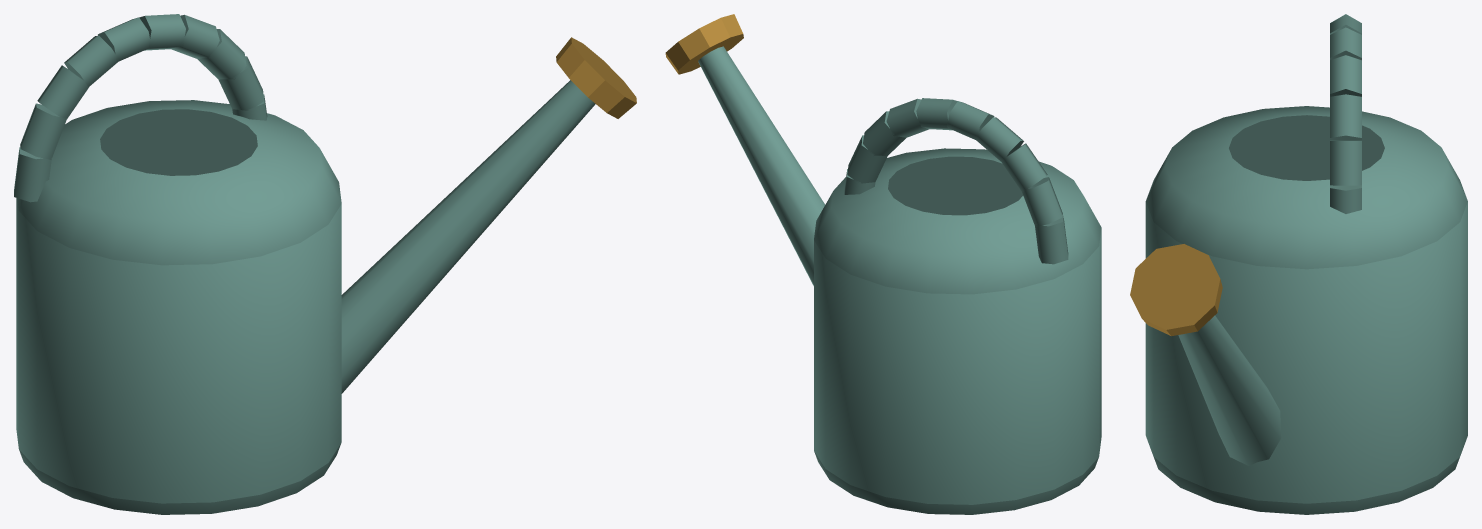
File: watering_can.glb
3 views of the same model, side by side, from view 1: azimuth 30°, elevation 25°; view 2: azimuth 150°, elevation 25°; view 3: azimuth 270°, elevation 25° (orthographic). The views are drawn at different scales.
Visible parts, largest first — view 1: body; view 2: body; view 3: body.
Boxes of the visible parts, x1,y1,x2,y2 form: body: (14,14,636,514); body: (665,14,1101,514); body: (1130,14,1467,514).
Size of the model in its own units: 12.39 by 9.37 by 6.92.
